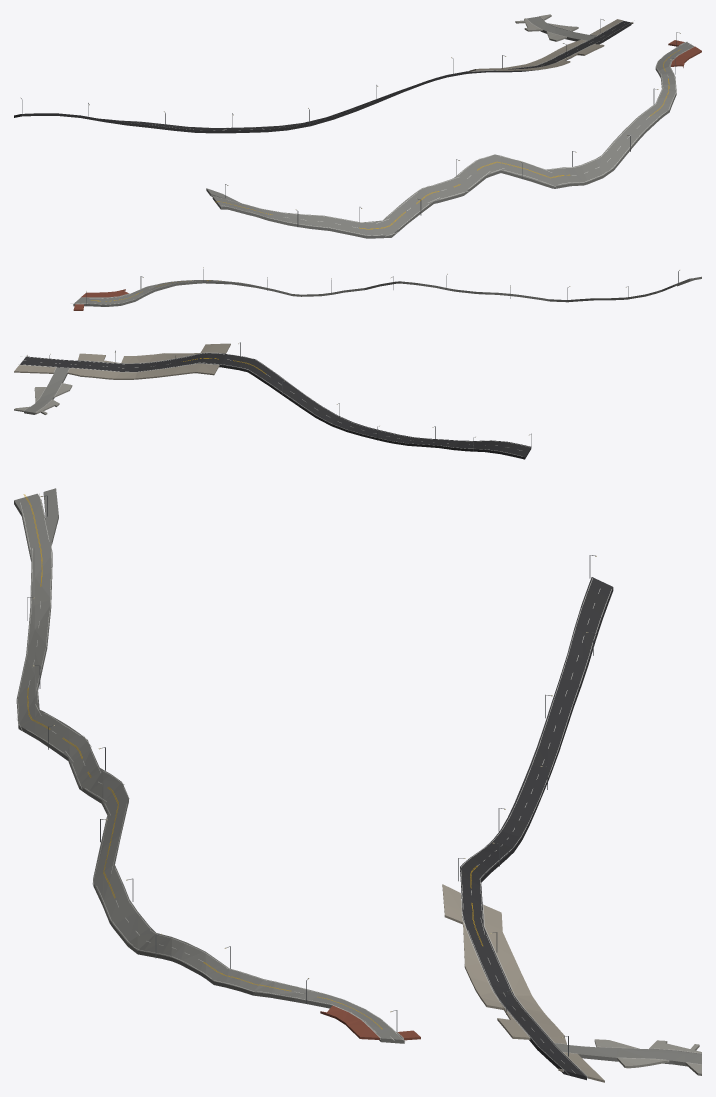
File: 17-109409-59452.cc8c6fdf.glb
3 views of the same model, one above another, from view 1: azimuth 30°, elevation 25°; view 2: azimuth 150°, elevation 25°; view 3: azimuth 270°, elevation 25° (orthographic). The views are drawn at different scales.
Size of the model in its own units: 297 by 61.76 by 201.
